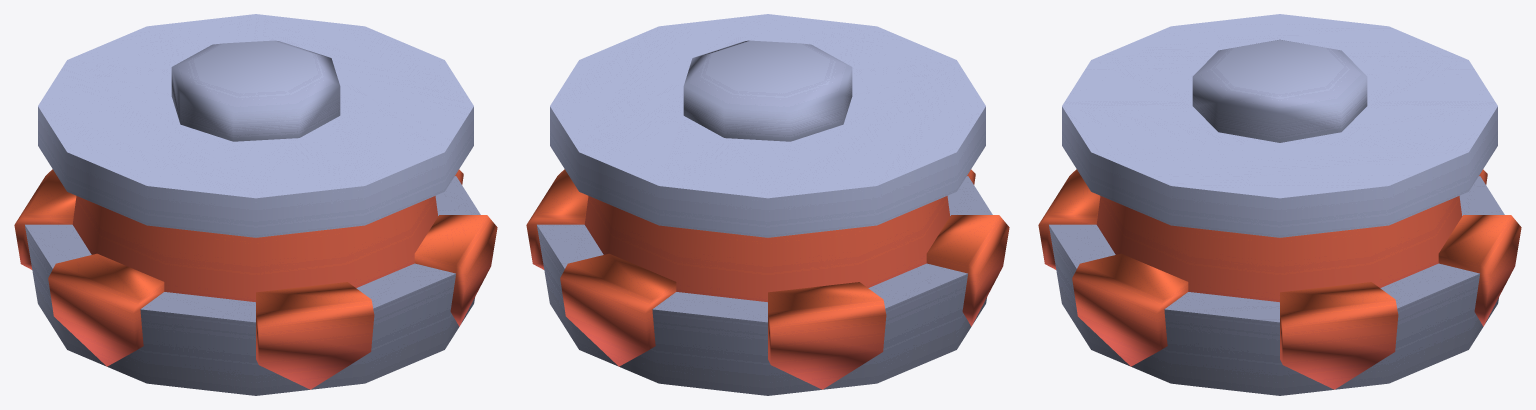
The model's file is tower-round-middle-a.glb.
The picture shows the model from 3 angles, left to right: view 1: azimuth 30°, elevation 25°; view 2: azimuth 150°, elevation 25°; view 3: azimuth 270°, elevation 25°; orthographic projection.
Parts seen in each view (by area): view 1: tower-round-middle-a; view 2: tower-round-middle-a; view 3: tower-round-middle-a.
Boxes of the visible parts, bbox=[...] form: tower-round-middle-a: bbox=[14, 14, 497, 395]; tower-round-middle-a: bbox=[526, 14, 1009, 395]; tower-round-middle-a: bbox=[1038, 14, 1521, 395].
Bounding box in the file's own units: 1.11 × 0.6 × 1.11.
1 material, 1 textured.
